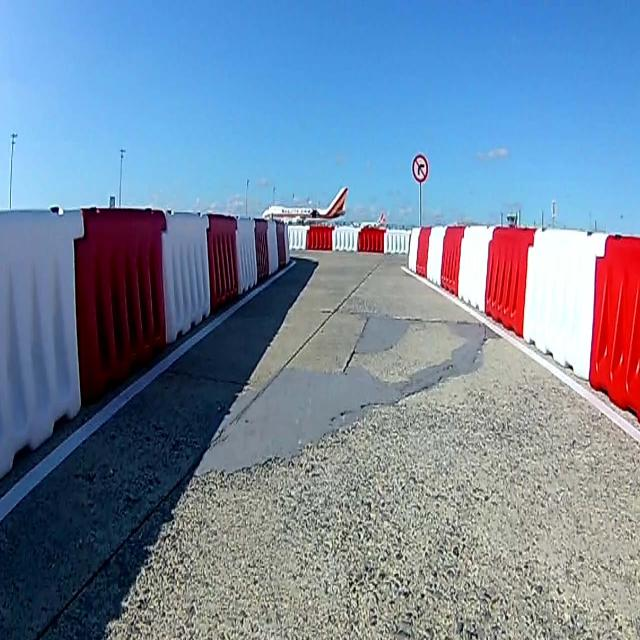sagadonulmez: (412, 155, 429, 182)
